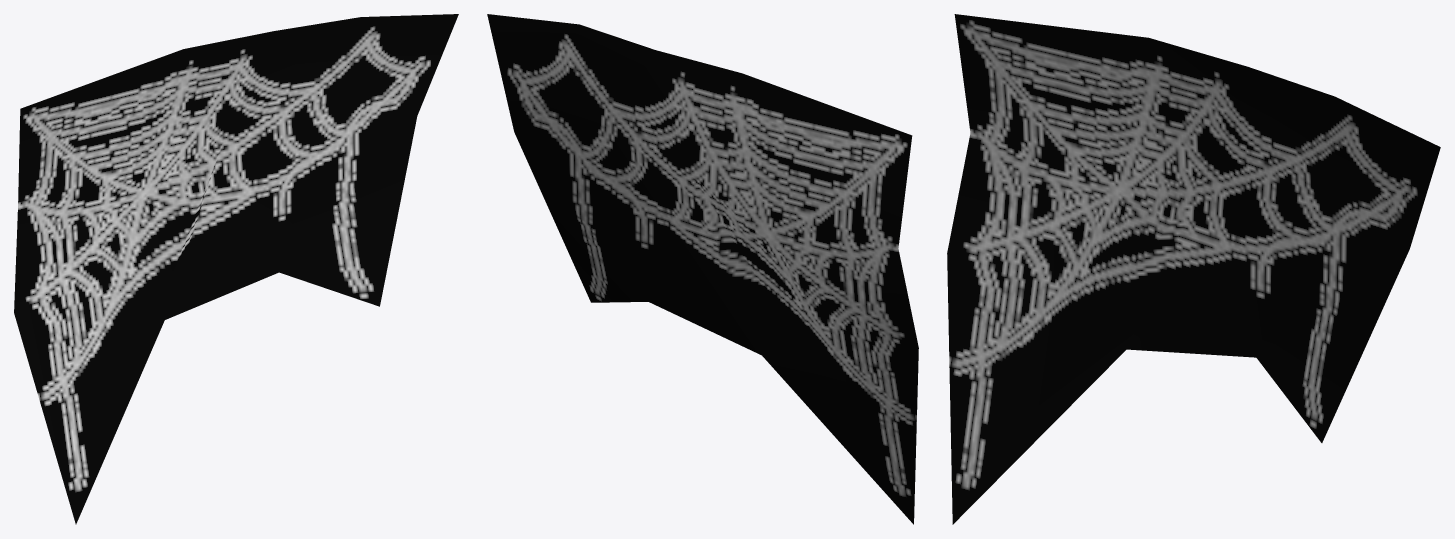
The model's file is prop_cobweb_corner_b.glb.
3 renders of one model, left to right at view 1: azimuth 30°, elevation 25°; view 2: azimuth 150°, elevation 25°; view 3: azimuth 330°, elevation 25°, orthographic. The views are drawn at different scales.
Parts seen in each view (by area): view 1: SM_Cobwebs_12_Cobwebs_M_0; view 2: SM_Cobwebs_12_Cobwebs_M_0; view 3: SM_Cobwebs_12_Cobwebs_M_0.
Boxes of the visible parts, x1=… form: SM_Cobwebs_12_Cobwebs_M_0: x1=14, y1=14, x2=458, y2=524; SM_Cobwebs_12_Cobwebs_M_0: x1=487, y1=14, x2=918, y2=524; SM_Cobwebs_12_Cobwebs_M_0: x1=947, y1=14, x2=1440, y2=524.
Bounding box in the file's own units: 0.6993 × 0.6554 × 0.1026.
Materials: 1 (1 with a texture image).
